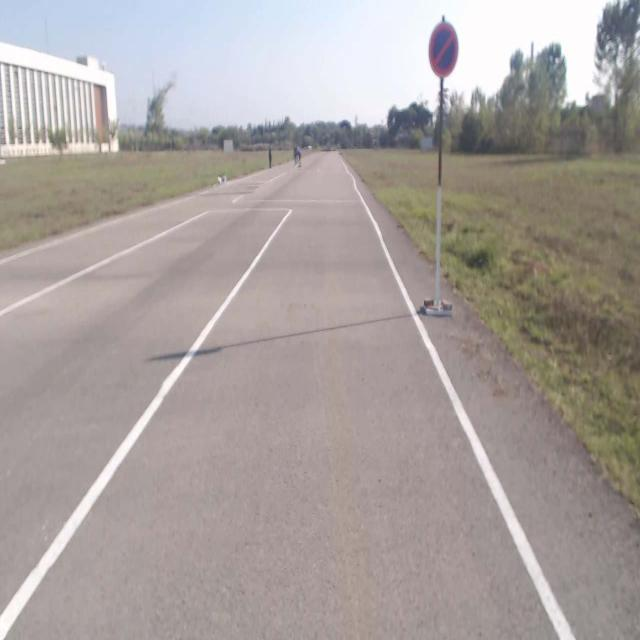parkyasak: (428, 23, 459, 79)
